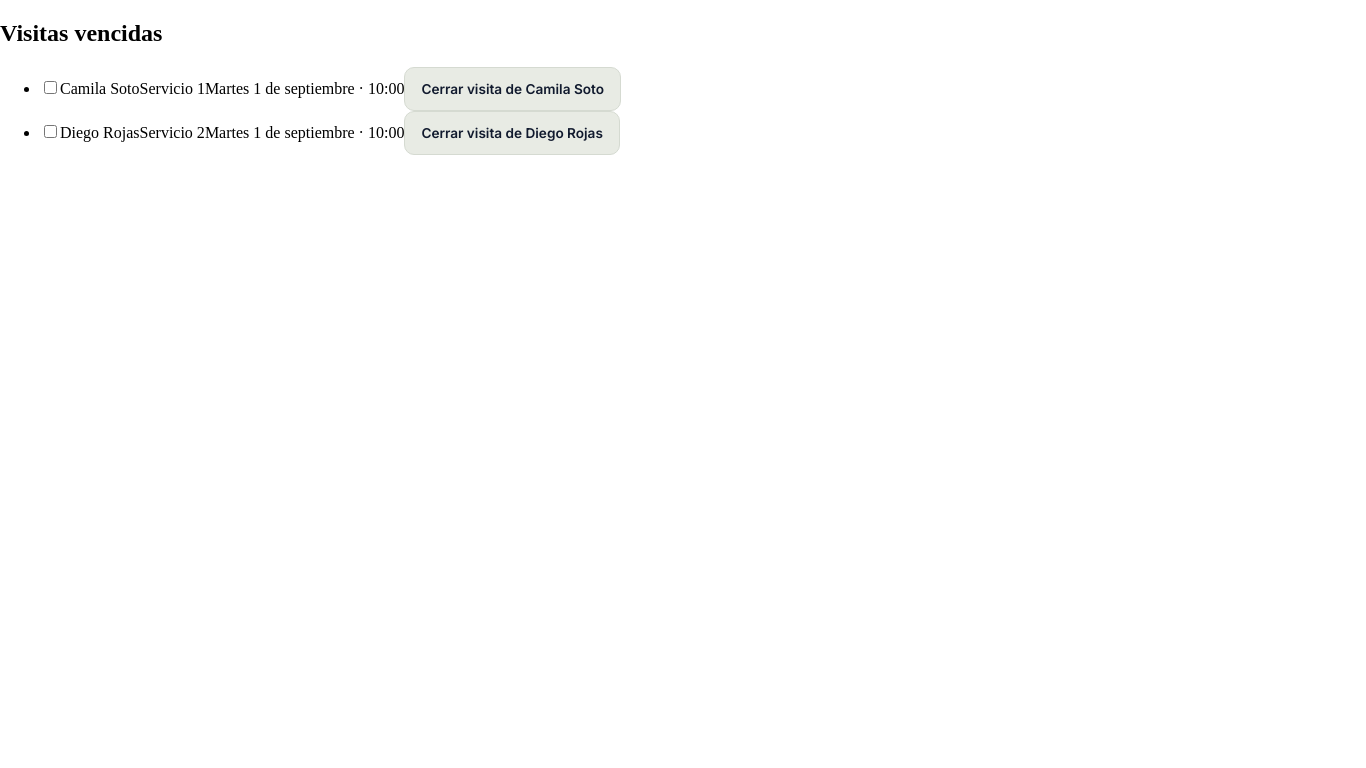
Test: OverdueVisitsPanel › reports successful and failed rows separately with the backend error
Click the checkbox named "Seleccionar visita de Camila Soto" at (50, 87), box [44,81,57,94]
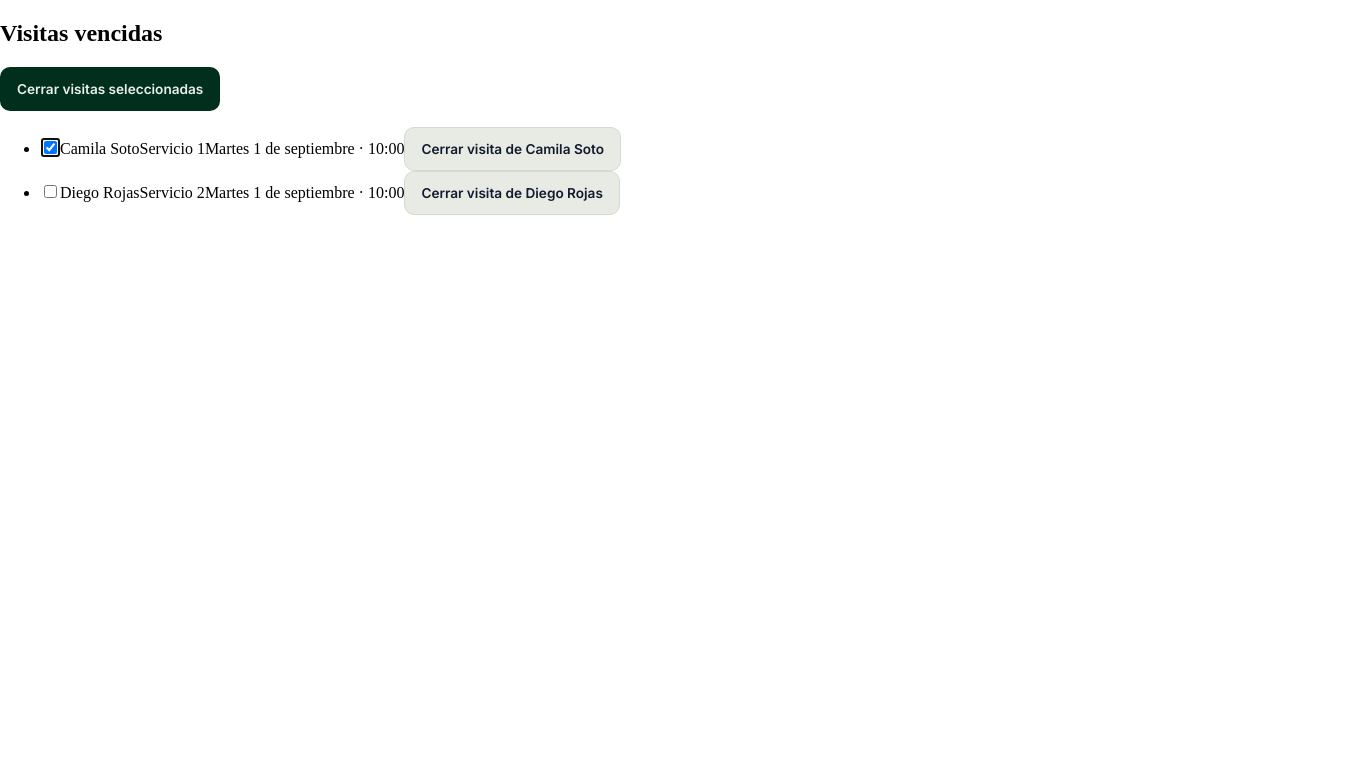
Click the checkbox named "Seleccionar visita de Diego Rojas" at (50, 191), box [44,185,57,198]
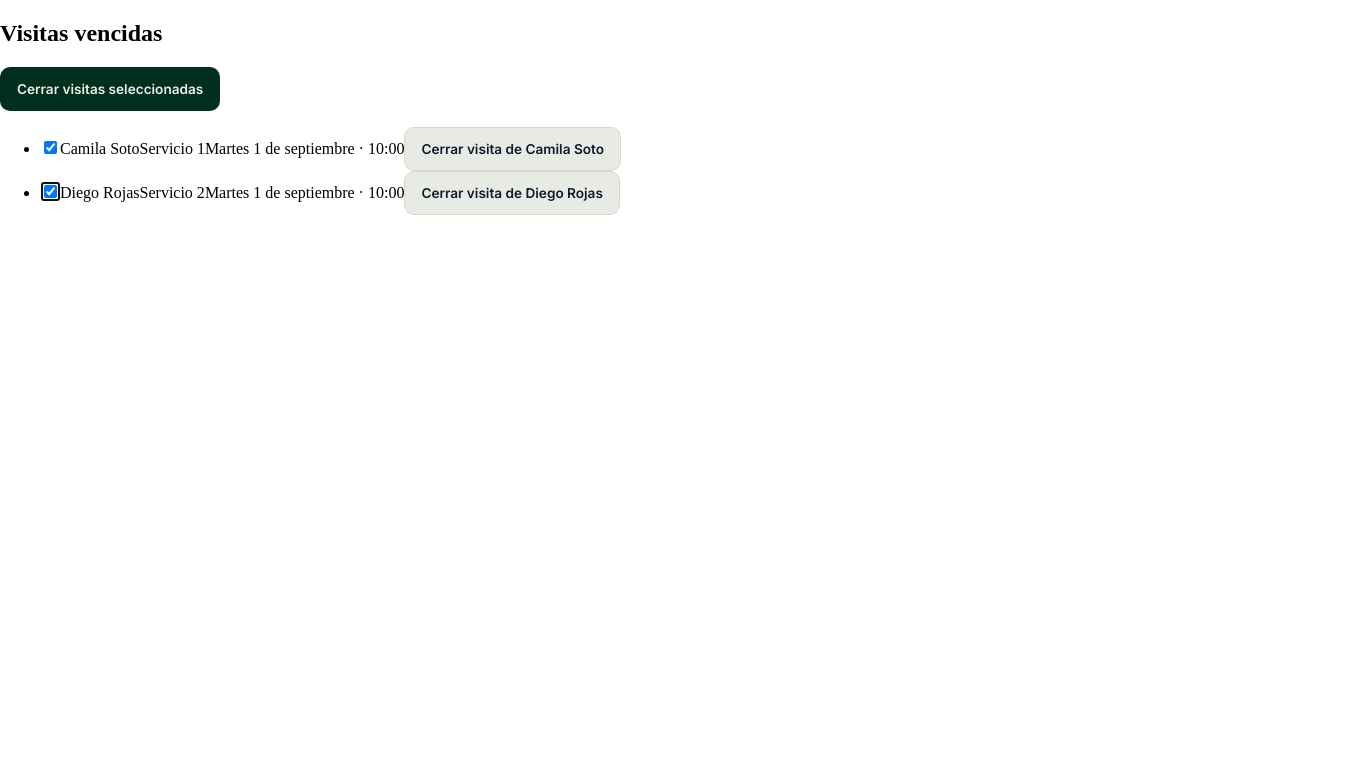
Click the button "Cerrar visitas seleccionadas" at (110, 89), box [0,67,220,111]
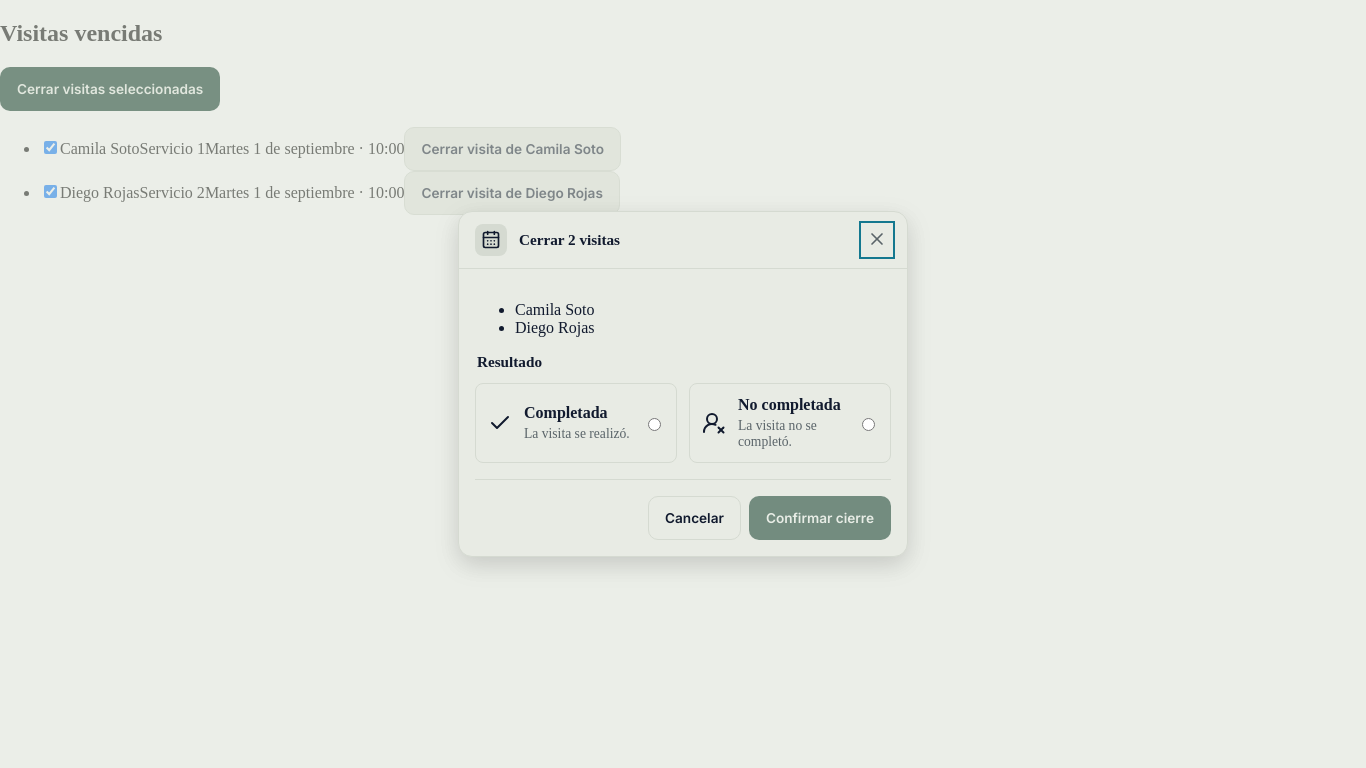
Click the radio button labelled "Completada La visita se realizó." at (654, 424), box [648,418,661,431]
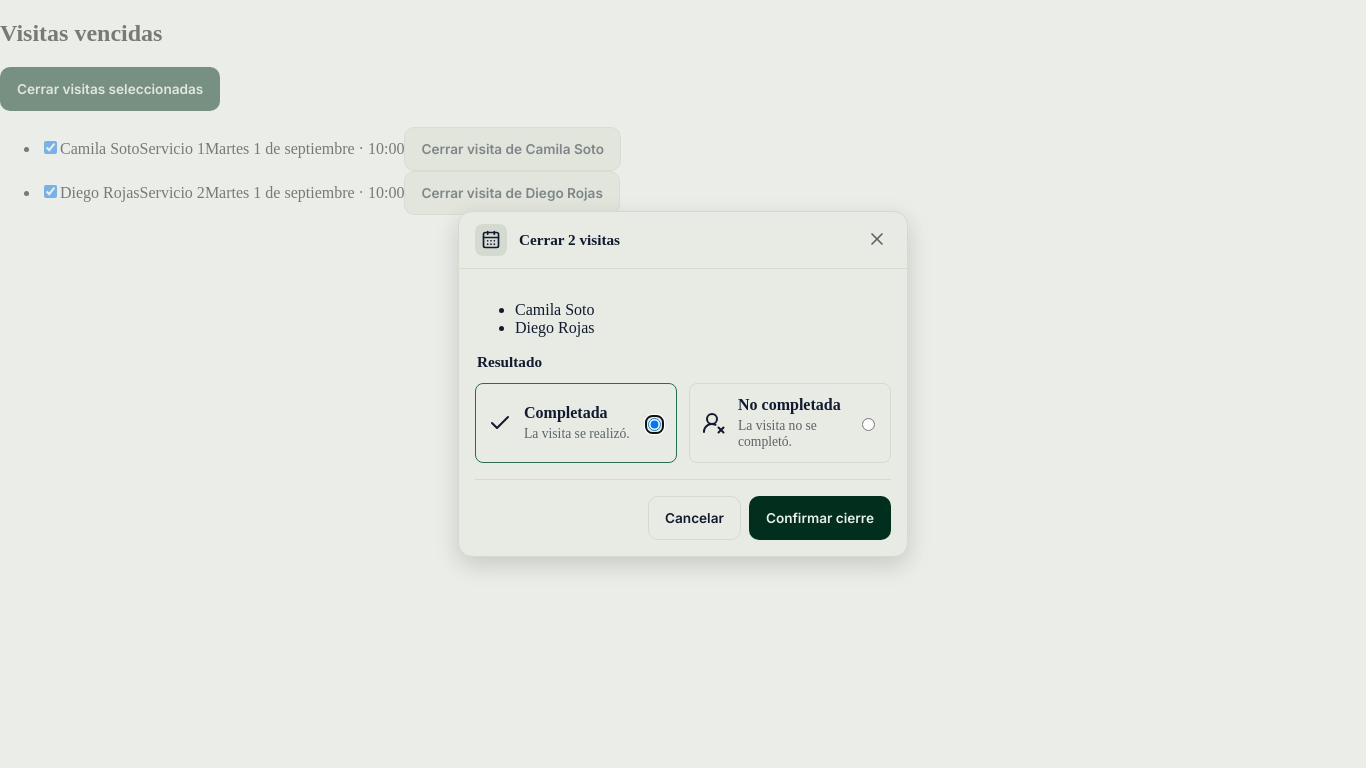
Click the button "Confirmar cierre" at (820, 518), box [749,496,891,540]
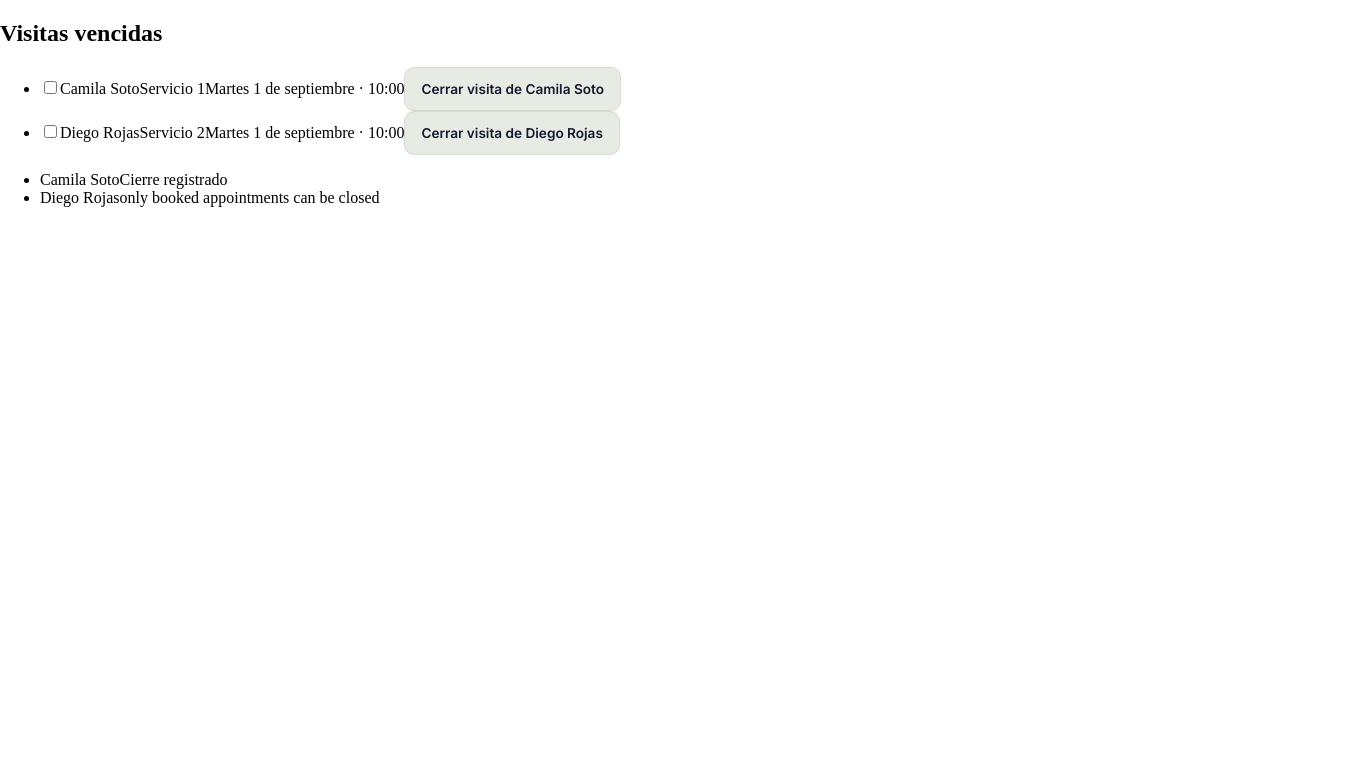
expect the text "Cierre registrado" is shown: met, box [120,171,228,188]
expect the text "only booked appointments can be closed" is shown: met, box [120,189,379,206]
expect the message that starts with "Diego Rojas" is shown: met, box [40,189,120,206]
